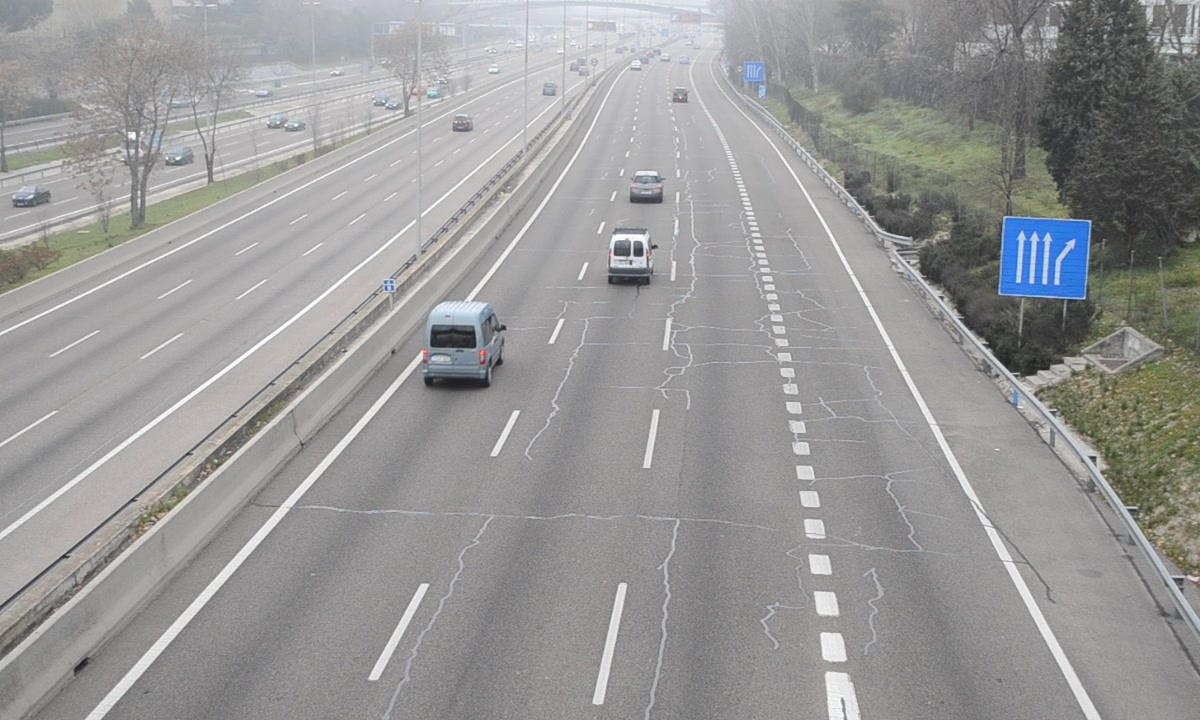car: (628, 171, 665, 205)
van: (420, 303, 501, 383), (607, 230, 651, 281)
